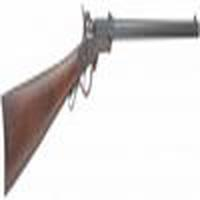gun: (1, 6, 200, 164)
